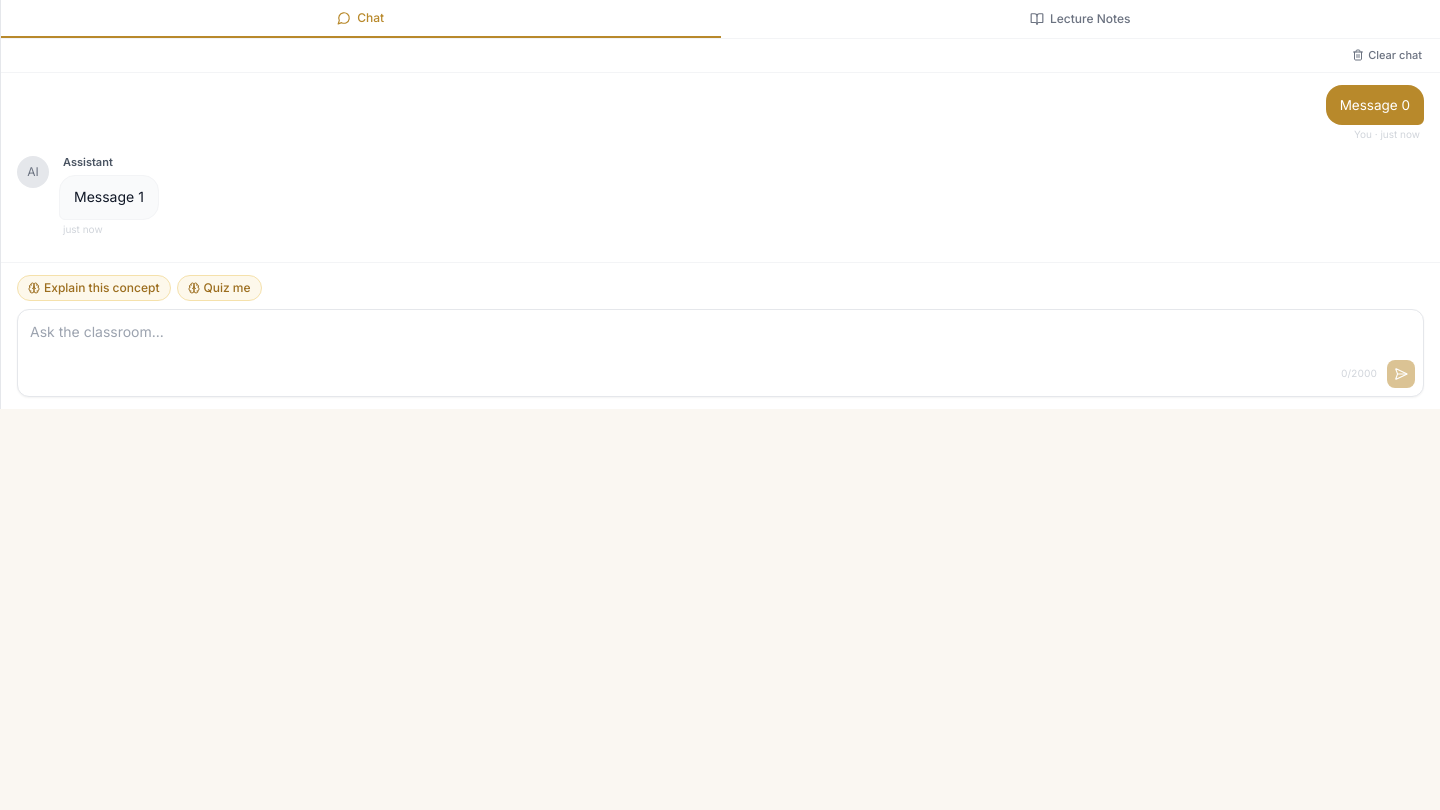
ChatPanel — clear-chat confirm path › "Clear chat" button disappears from the toolbar after messages are wiped
This screenshot has width=1440, height=810.
Click the button "Clear chat": (1387, 55) [1346,45,1428,66]
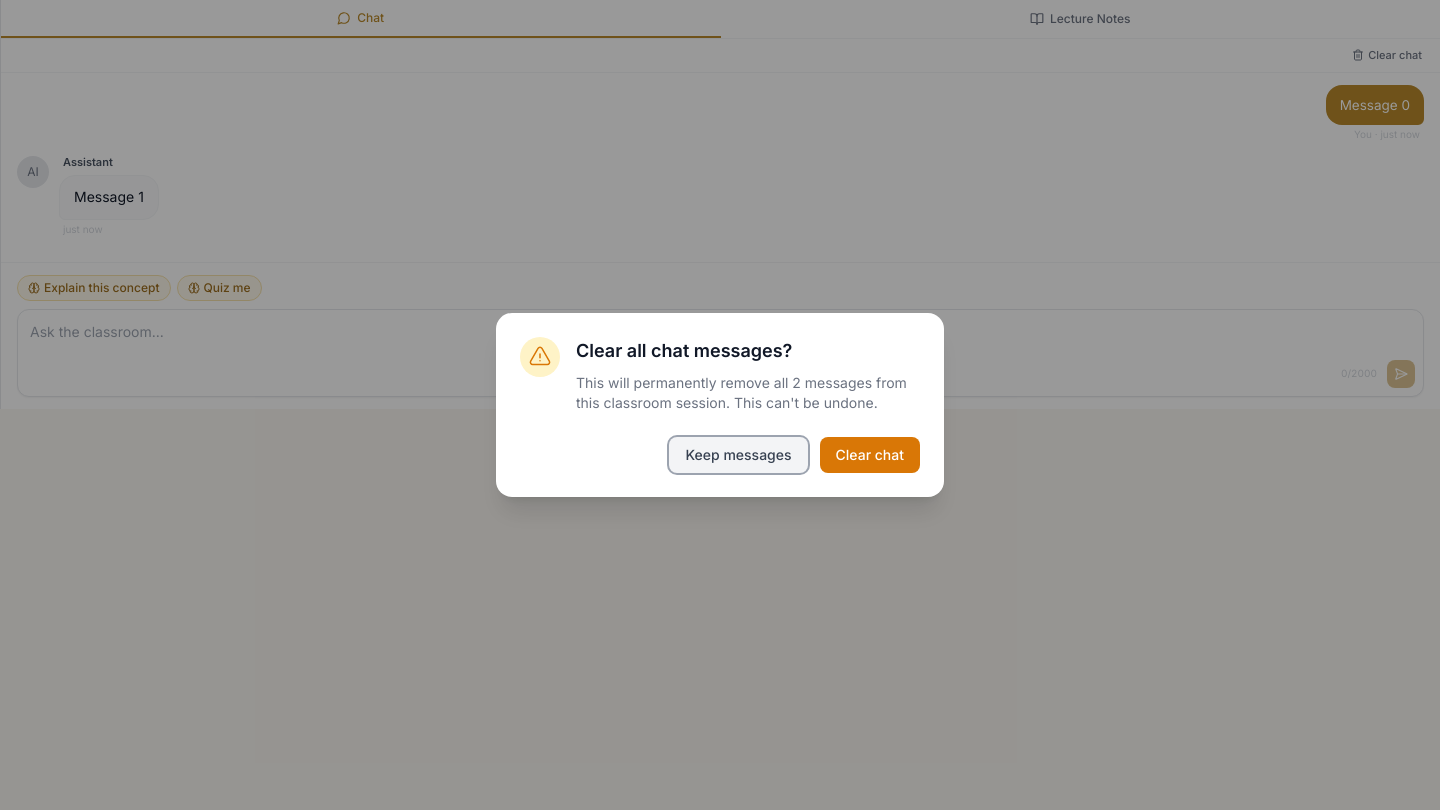
Now the heading "Clear all chat messages?" is shown, box [576,340,792,361]
// Click the dialog confirm button (visible text "Clear chat")
Click the button "Clear chat": (870, 455) [820,437,920,473]
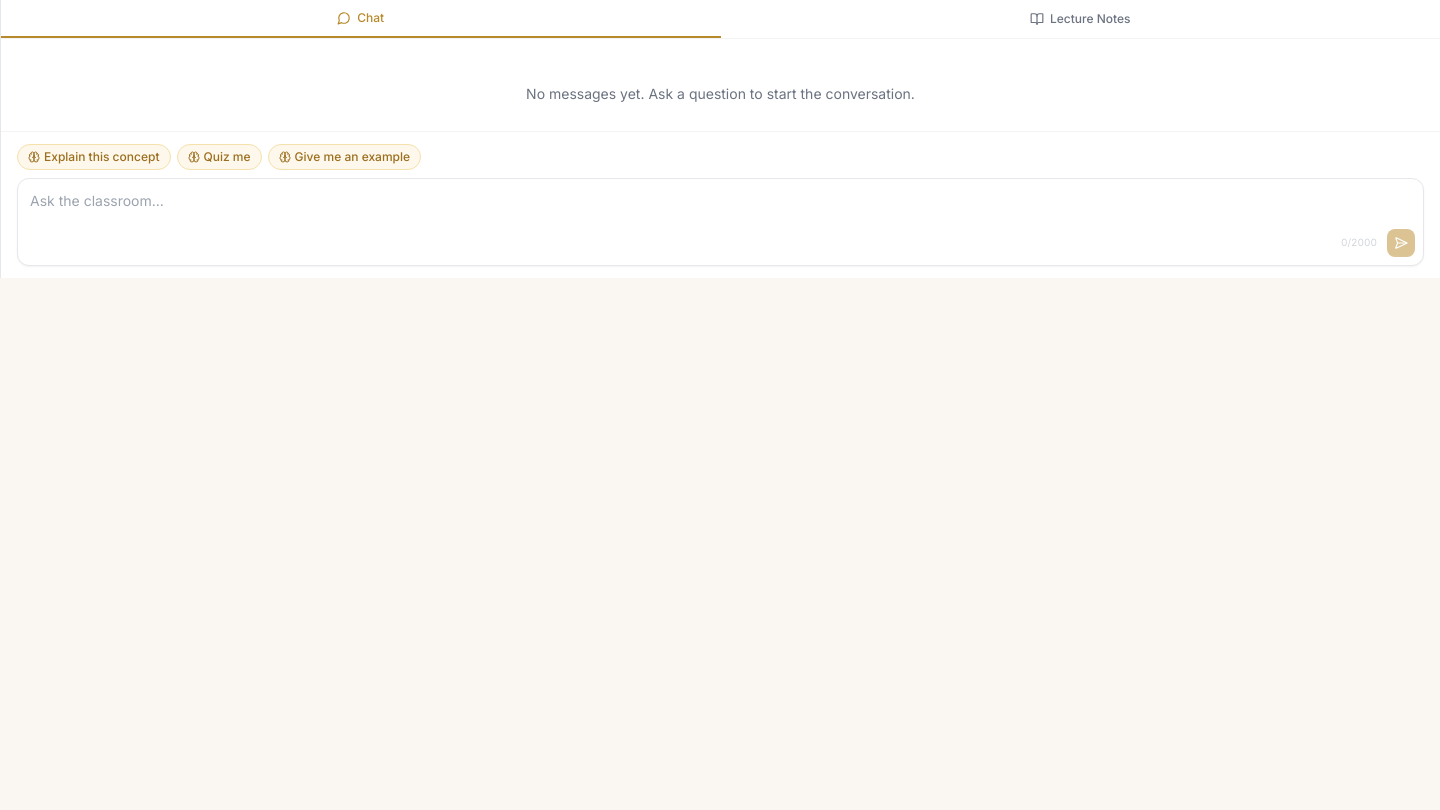
Now the button "Clear chat" is gone
